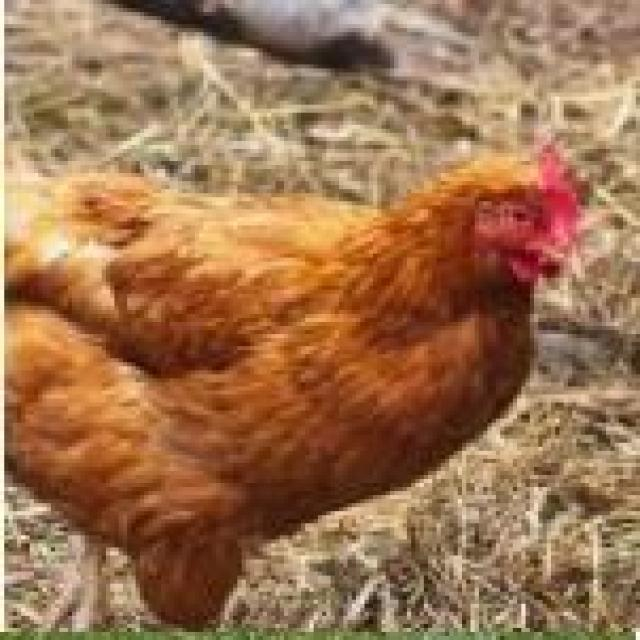Healthy: (4, 129, 598, 636)
